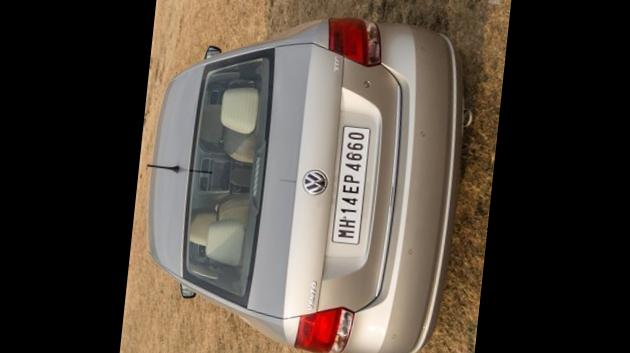plate: (319, 117, 378, 245)
